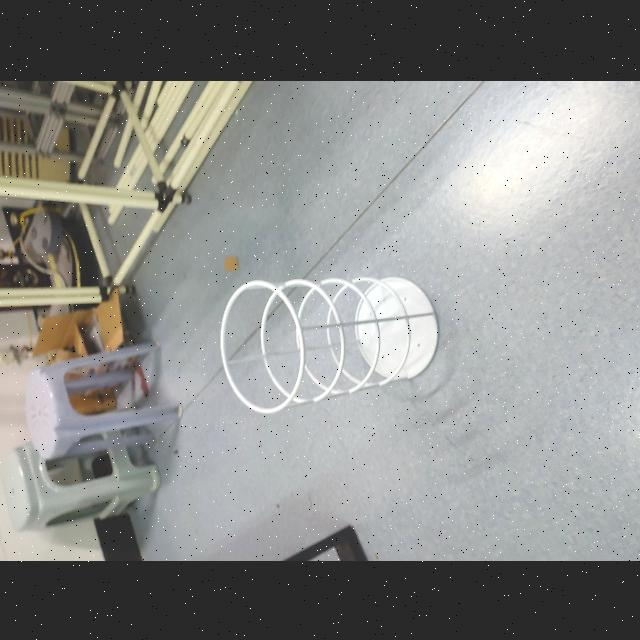S: (215, 269, 442, 416)
